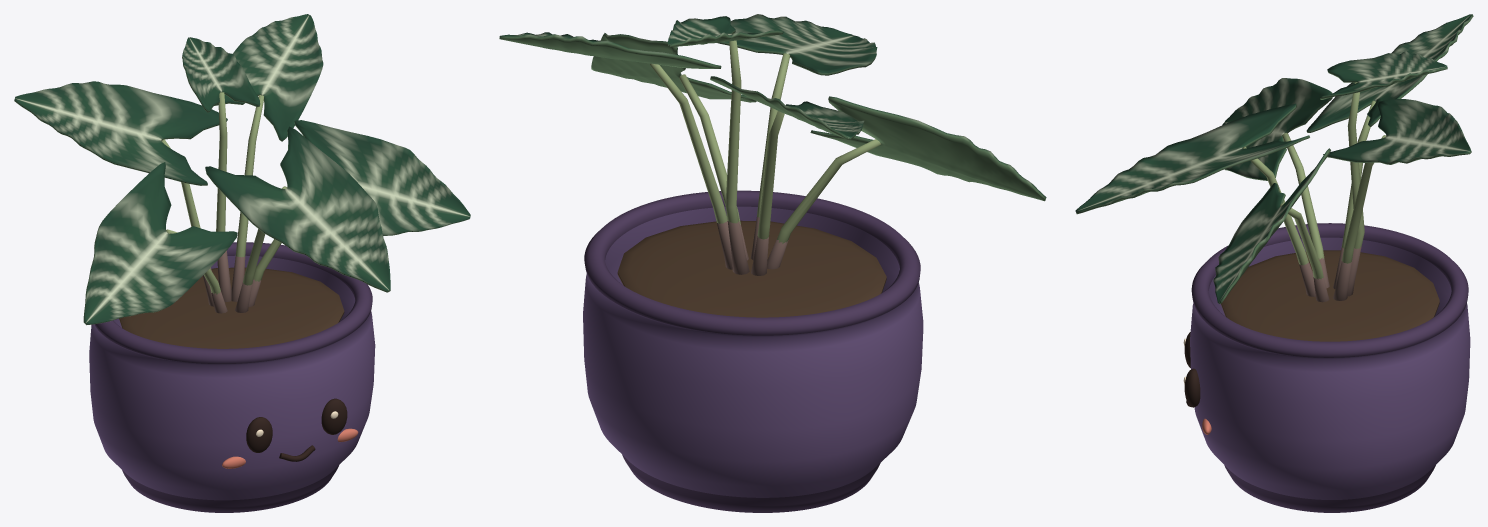
The model's file is green-velvet-alocasia-v1.glb.
3 views of the same model, side by side, from view 1: azimuth 30°, elevation 25°; view 2: azimuth 150°, elevation 25°; view 3: azimuth 270°, elevation 25° (orthographic). The views are drawn at different scales.
Visible parts, largest first — view 1: Foliage draw mesh, Wheel-thrown ceramic, Soil, Eye, Eye.001; view 2: Wheel-thrown ceramic, Foliage draw mesh, Soil; view 3: Wheel-thrown ceramic, Foliage draw mesh, Soil, Eye.001.
Boxes of the visible parts, box(x1,y1,x2,y2) form: Foliage draw mesh: box(14, 14, 470, 325); Wheel-thrown ceramic: box(89, 242, 375, 512); Soil: box(119, 267, 344, 348); Eye: box(246, 417, 272, 452); Eye.001: box(321, 398, 347, 434); Wheel-thrown ceramic: box(583, 190, 923, 512); Foliage draw mesh: box(499, 14, 1046, 275); Soil: box(617, 220, 886, 317); Wheel-thrown ceramic: box(1190, 223, 1470, 512); Foliage draw mesh: box(1075, 14, 1473, 303); Soil: box(1221, 250, 1439, 341); Eye.001: box(1184, 368, 1200, 407).
Bounding box in the file's own units: 2.47 × 2.43 × 2.12.
